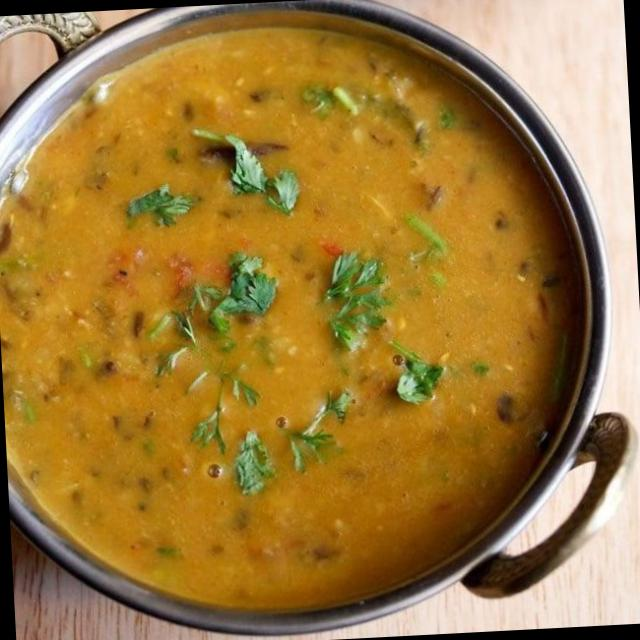dal: (0, 9, 585, 634)
